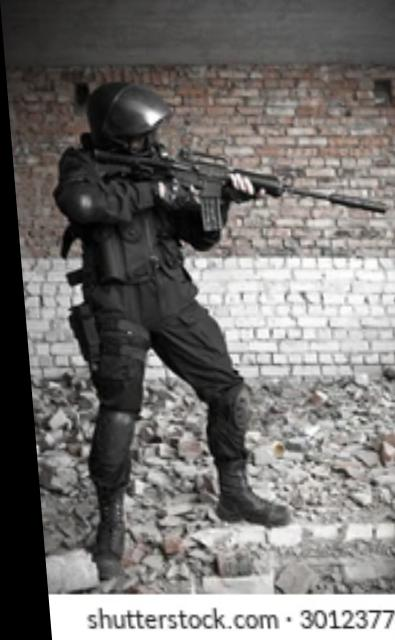other: (53, 83, 254, 535)
